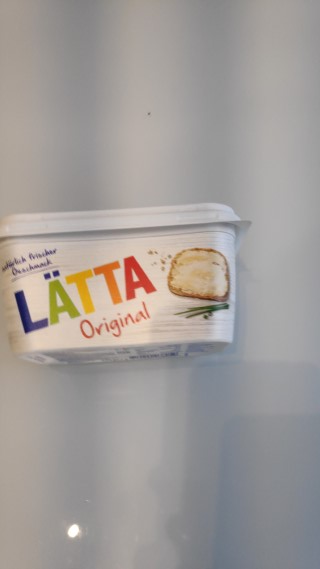laetta: (1, 203, 252, 365)
